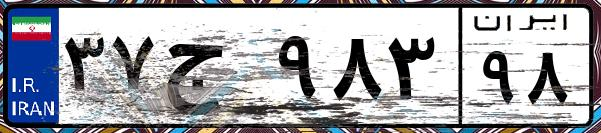3: (385, 28, 445, 110), (57, 26, 110, 100)
7: (110, 28, 158, 98)
8: (330, 28, 385, 110), (525, 38, 570, 115)
9: (270, 28, 330, 110), (475, 38, 525, 113)
ج: (158, 20, 270, 120)
